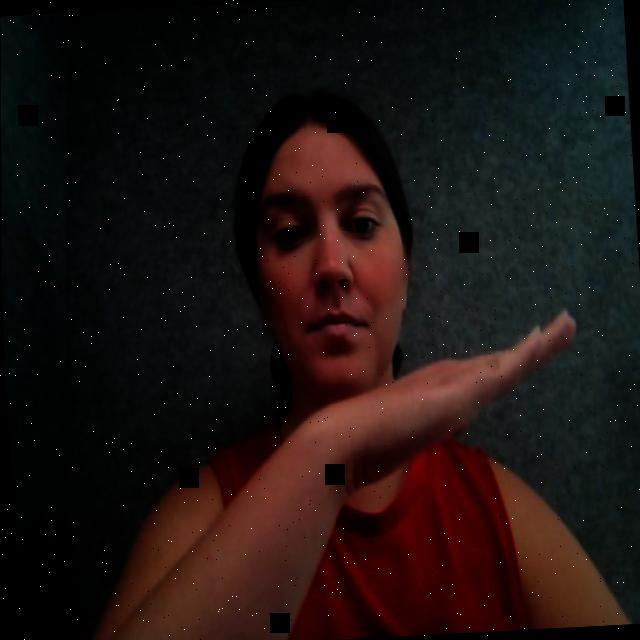Paper: (304, 286, 595, 528)
